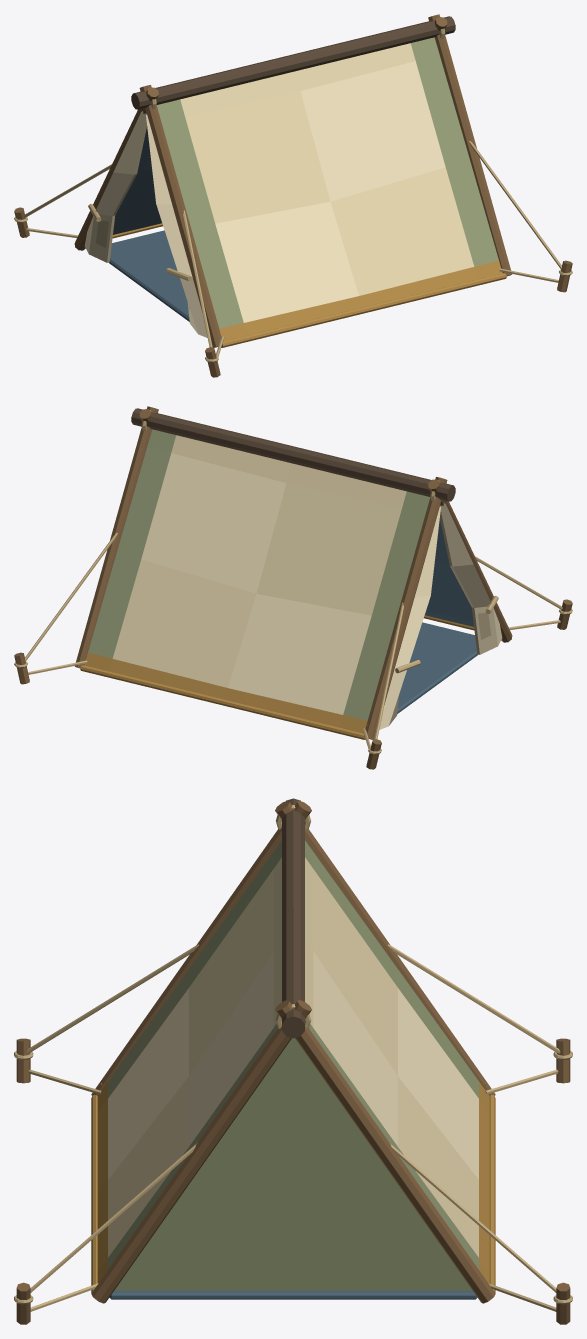
Rendered from SM_ForestTent.fbx.
3 views of the same model, one above another, from view 1: azimuth 30°, elevation 25°; view 2: azimuth 150°, elevation 25°; view 3: azimuth 270°, elevation 25° (orthographic). The views are drawn at different scales.
Parts seen in each view (by area): view 1: SM_ForestTent; view 2: SM_ForestTent; view 3: SM_ForestTent.
Boxes of the visible parts, <box> form: SM_ForestTent: <box>14,14,572,377</box>; SM_ForestTent: <box>14,406,572,769</box>; SM_ForestTent: <box>14,798,572,1324</box>.
Bounding box in the file's own units: 4.55 × 4.25 × 2.56.
